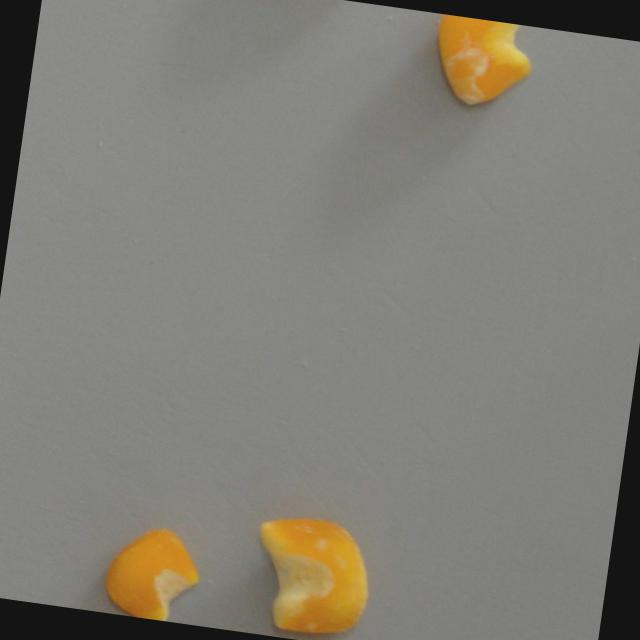no_canjicado: (98, 519, 206, 625)
pelicula: (246, 510, 378, 640), (424, 13, 541, 115)
